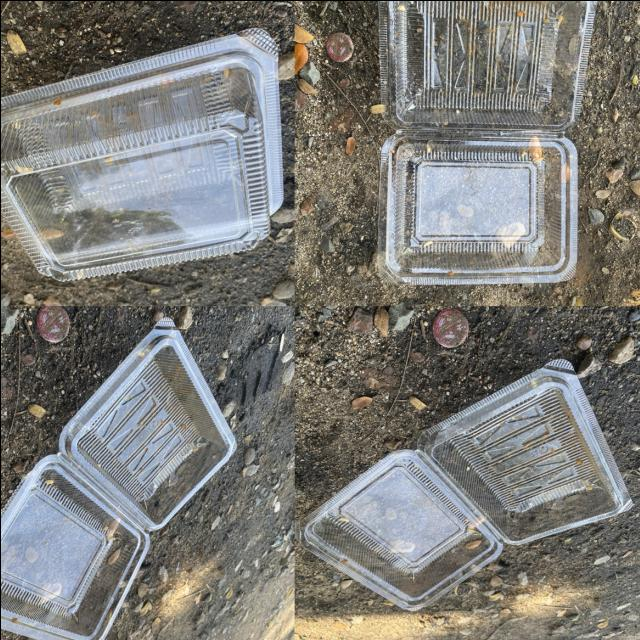plastik: (301, 359, 631, 608), (0, 318, 235, 640), (0, 28, 281, 279), (377, 0, 596, 283)
